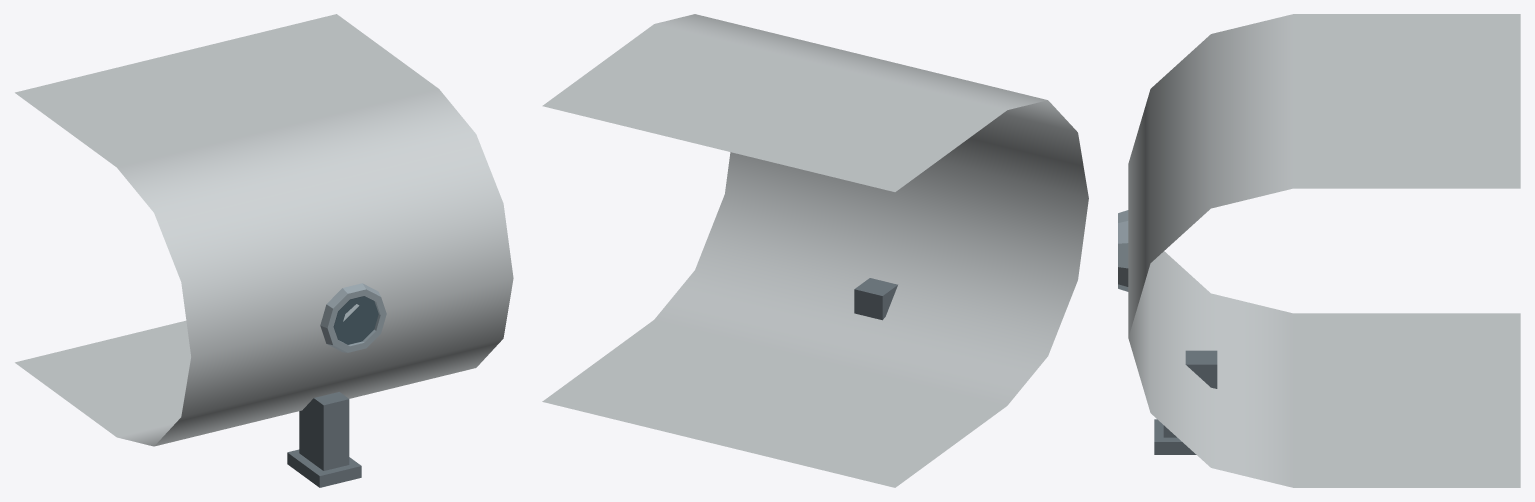
File: pressure_157.glb
3 renders of one model, left to right at view 1: azimuth 30°, elevation 25°; view 2: azimuth 150°, elevation 25°; view 3: azimuth 270°, elevation 25°, orthographic. The views are drawn at different scales.
Visible parts, largest first — view 1: Pressure_Shell.062, Support.142, Porthole_Rim.079, Gas_Window.079, Window_Glass.079, Footplate.142; view 2: Pressure_Shell.062, Support.142; view 3: Pressure_Shell.062, Support.142, Porthole_Rim.079, Footplate.142.
Boxes of the visible parts, bbox=[...] form: Pressure_Shell.062: bbox=[15, 14, 513, 446]; Support.142: bbox=[299, 392, 349, 470]; Porthole_Rim.079: bbox=[320, 283, 386, 352]; Gas_Window.079: bbox=[333, 296, 378, 344]; Window_Glass.079: bbox=[335, 297, 379, 345]; Footplate.142: bbox=[287, 449, 361, 487]; Pressure_Shell.062: bbox=[542, 14, 1088, 487]; Support.142: bbox=[854, 278, 897, 320]; Pressure_Shell.062: bbox=[1128, 14, 1520, 487]; Support.142: bbox=[1163, 350, 1217, 437]; Porthole_Rim.079: bbox=[1118, 210, 1128, 291]; Footplate.142: bbox=[1154, 419, 1196, 454].
Bounding box in the file's own units: 2 × 1.83 × 1.95.
